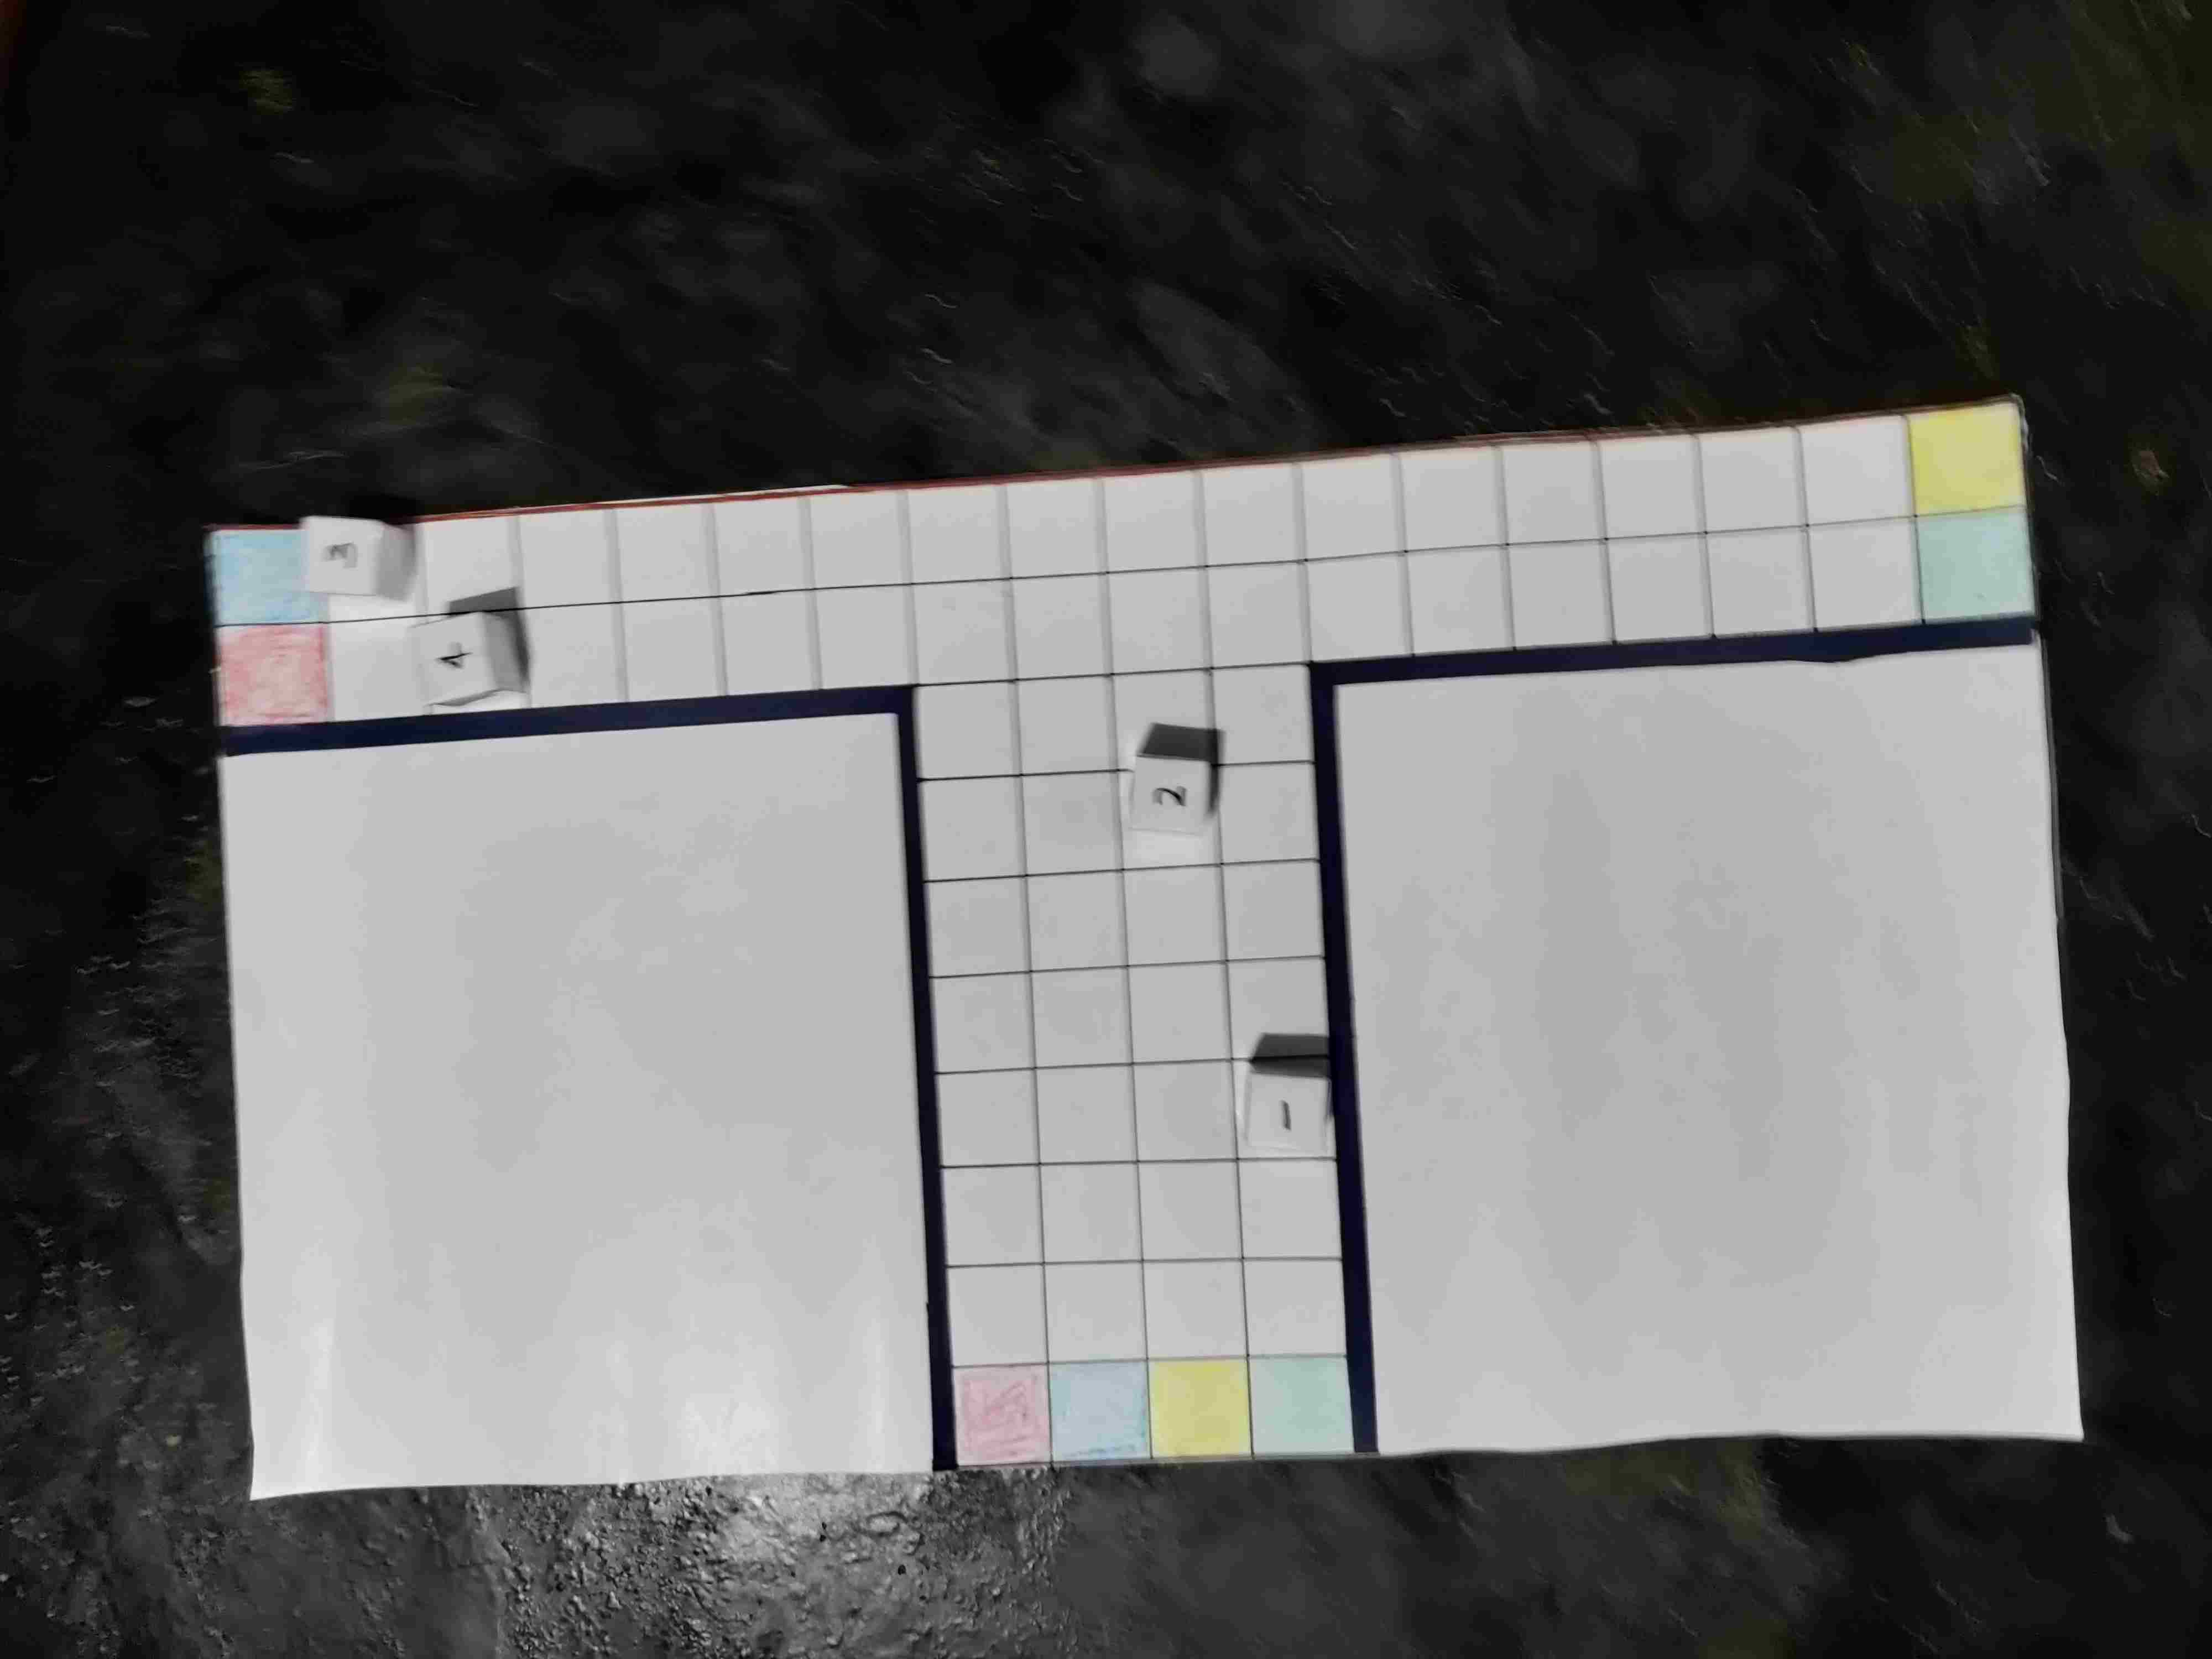arena: (209, 401, 2029, 1504)
bot: (404, 617, 491, 701), (1129, 762, 1216, 840), (303, 509, 380, 592), (1247, 1072, 1327, 1150)
